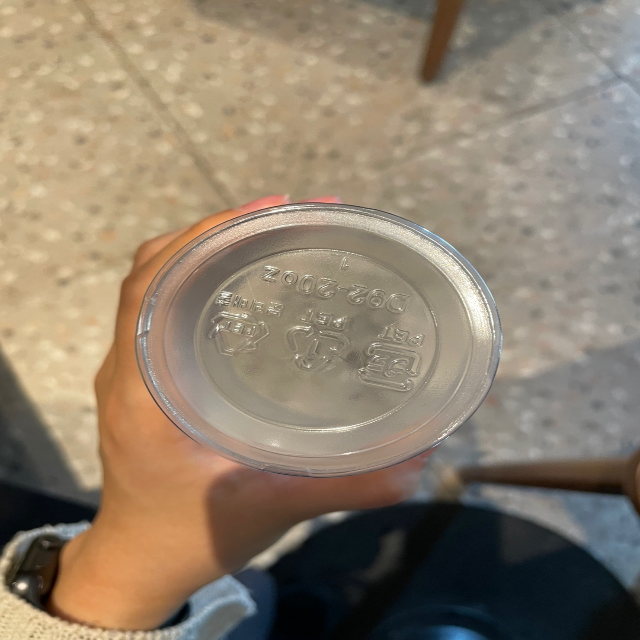pet: (204, 283, 283, 363), (353, 319, 431, 396), (283, 305, 352, 379)
